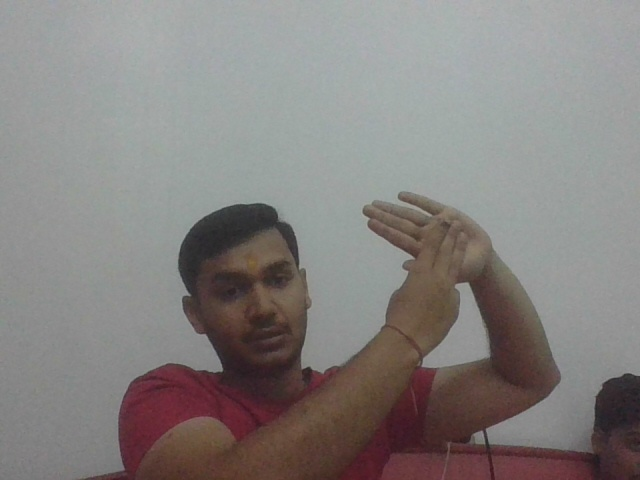M: (352, 188, 483, 328)
